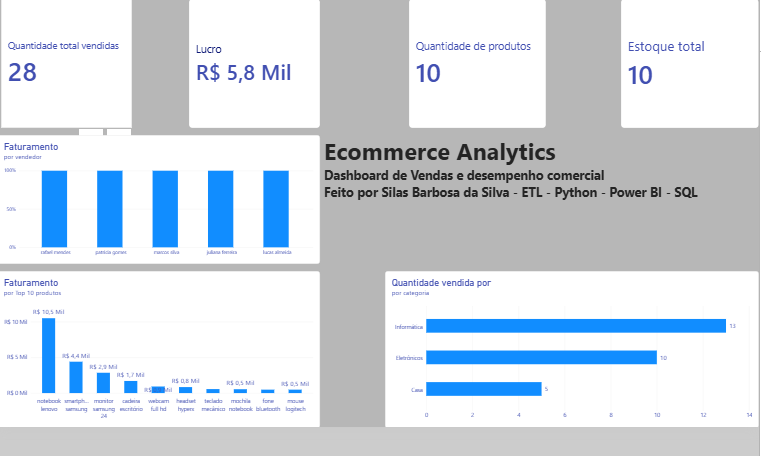

What the dashboard file says about the page in this screenshot:
{"tool":"powerbi","page":{"name":"Produtos e Perfomance","canvas":[1920,1080],"ordinal":1},"visuals":[{"type":"cardVisual","fields":{"Data":["Sum(itens_pedido.quantidade)"]},"box":[10.1,0,330.1,325],"z":0},{"type":"cardVisual","fields":{"Data":["itens_pedido.Lucro"]},"box":[483.8,0,330,325],"z":1000},{"type":"cardVisual","fields":{"Data":["CountNonNull(produtos.id_produto)"]},"box":[1038.1,0,345.2,325],"z":2000},{"type":"cardVisual","fields":{"Data":["CountNonNull(produtos.estoque)"]},"box":[1572.3,0,347.7,325],"z":3000},{"type":"columnChart","fields":{"Category":["produtos.nome_produto"],"Y":["itens_pedido.Faturamento"]},"box":[0,685.4,813.9,395.6],"z":4000},{"type":"barChart","fields":{"Category":["produtos.categoria"],"Y":["Sum(itens_pedido.quantidade)"]},"box":[977.6,685.4,942.4,395.6],"z":5000},{"type":"hundredPercentStackedColumnChart","fields":{"Y":["itens_pedido.Faturamento"],"Category":["vendedores.vendedor"]},"box":[0,342.7,813.9,325],"z":6000},{"type":"textbox","box":[823.9,342.7,1018,325],"z":7000}]}

Visuals, with their boxes on the page's 1920x1080 design canvas (x1, y1, x2, y2). These are canvas units, not pixel positions in the 761x456 screenshot, which may show the page scaled, cropped or inside an application window:
cardVisual - Sum(itens_pedido.quantidade): pyautogui.locateOnScreen(10, 0, 340, 325)
cardVisual - itens_pedido.Lucro: pyautogui.locateOnScreen(484, 0, 814, 325)
cardVisual - CountNonNull(produtos.id_produto): pyautogui.locateOnScreen(1038, 0, 1383, 325)
cardVisual - CountNonNull(produtos.estoque): pyautogui.locateOnScreen(1572, 0, 1920, 325)
columnChart - produtos.nome_produto x itens_pedido.Faturamento: pyautogui.locateOnScreen(0, 685, 814, 1081)
barChart - produtos.categoria x Sum(itens_pedido.quantidade): pyautogui.locateOnScreen(978, 685, 1920, 1081)
hundredPercentStackedColumnChart - itens_pedido.Faturamento x vendedores.vendedor: pyautogui.locateOnScreen(0, 343, 814, 668)
textbox: pyautogui.locateOnScreen(824, 343, 1842, 668)
